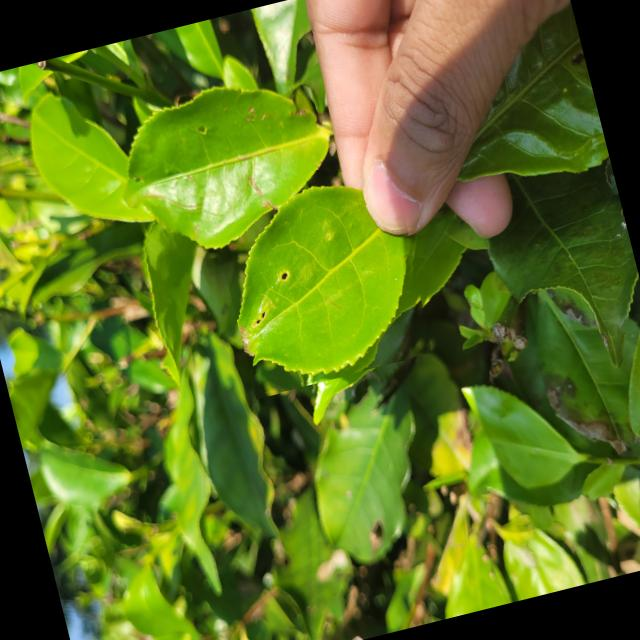Catagory A 1-2 days: (205, 150, 442, 398)
